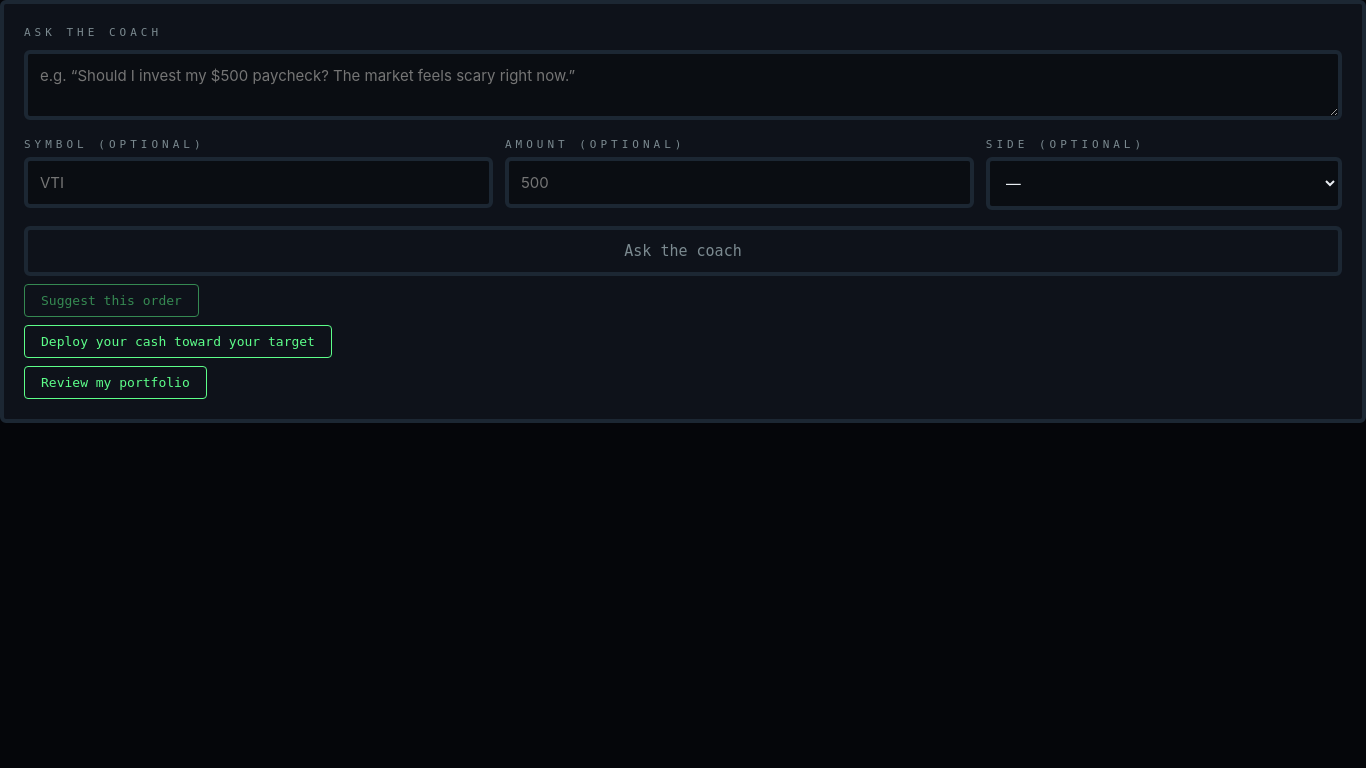
Test: CoachConsult — review-my-portfolio affordance (Story 10.4) › clears a shown review list when the user deploys (mutually-exclusive result panels)
# Review → the findings list (with its SELL "Fill" button) is on screen.
Click the button with test id "coach-review-portfolio" at (115, 383), box x1=24 y1=366 x2=207 y2=399
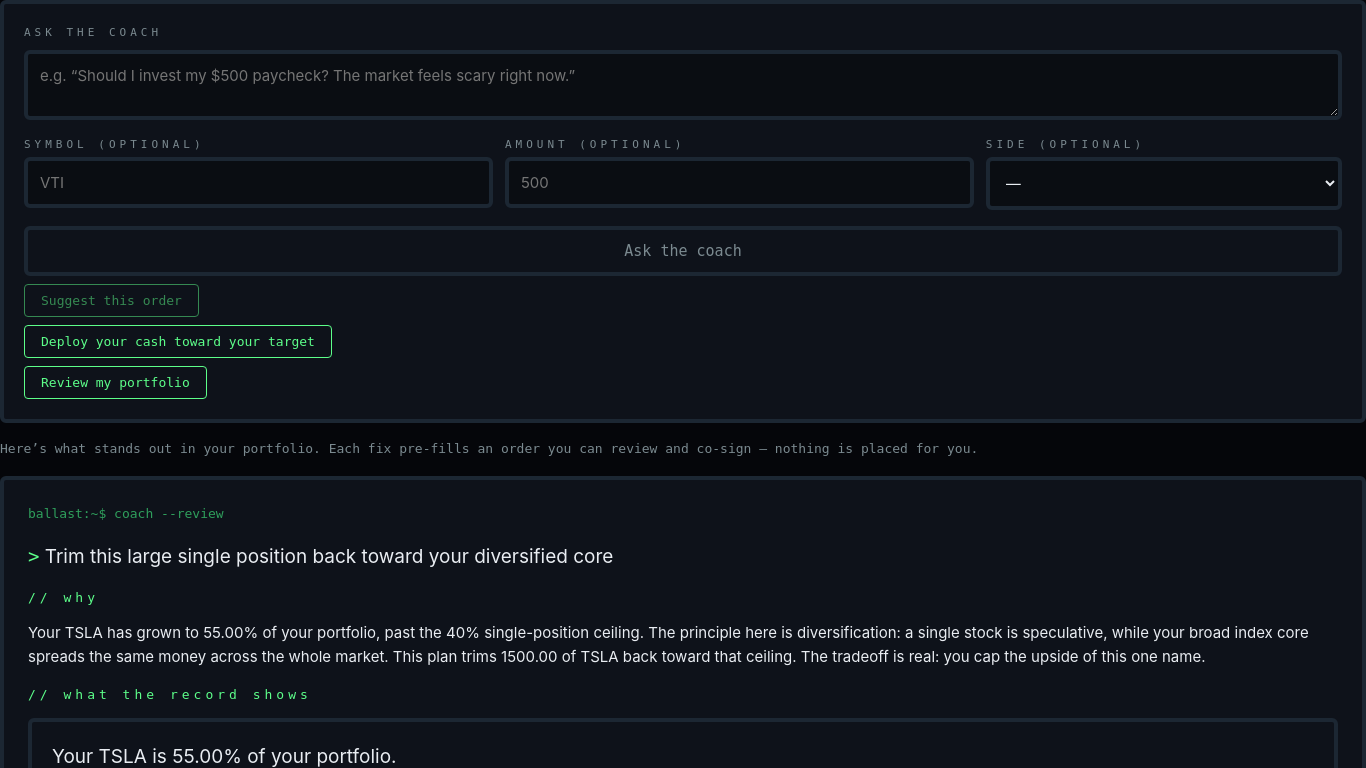
# Deploy → a BUY is populated AND the stale review list/Fill button are gone.
Click the button with test id "coach-deploy-cash" at (178, 342), box x1=24 y1=325 x2=332 y2=358
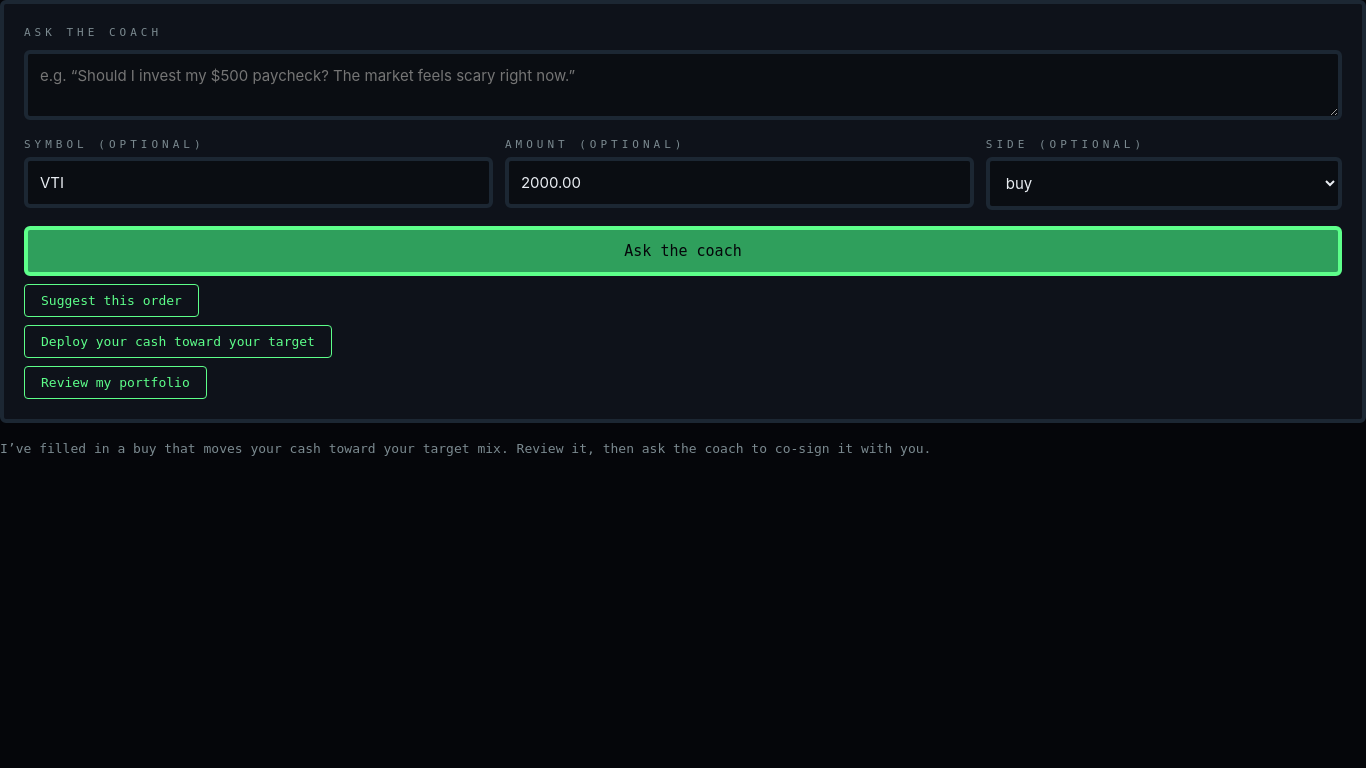
Now the message with test id "coach-deploy-populated" is shown, box x1=0 y1=441 x2=931 y2=456
Now the field with test id "coach-symbol-input" holds "VTI", box x1=24 y1=157 x2=493 y2=208
Now the dropdown with test id "coach-side-select" shows "buy", box x1=986 y1=157 x2=1342 y2=210
